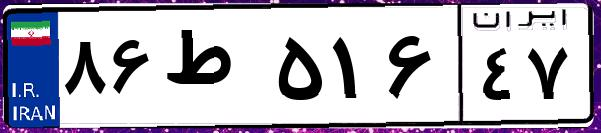1: (330, 28, 385, 110)
4: (475, 38, 525, 113)
5: (270, 28, 330, 110)
6: (385, 28, 445, 110), (110, 28, 158, 98)
7: (525, 38, 570, 115)
8: (57, 26, 110, 100)
ط: (158, 20, 270, 120)
